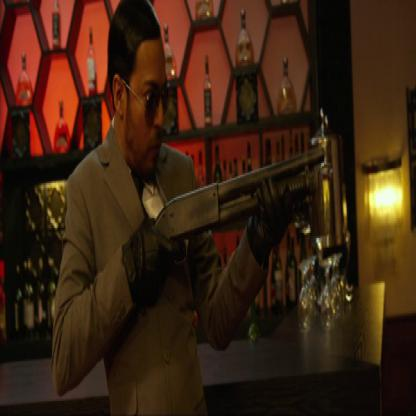Guns: (146, 141, 329, 266)
